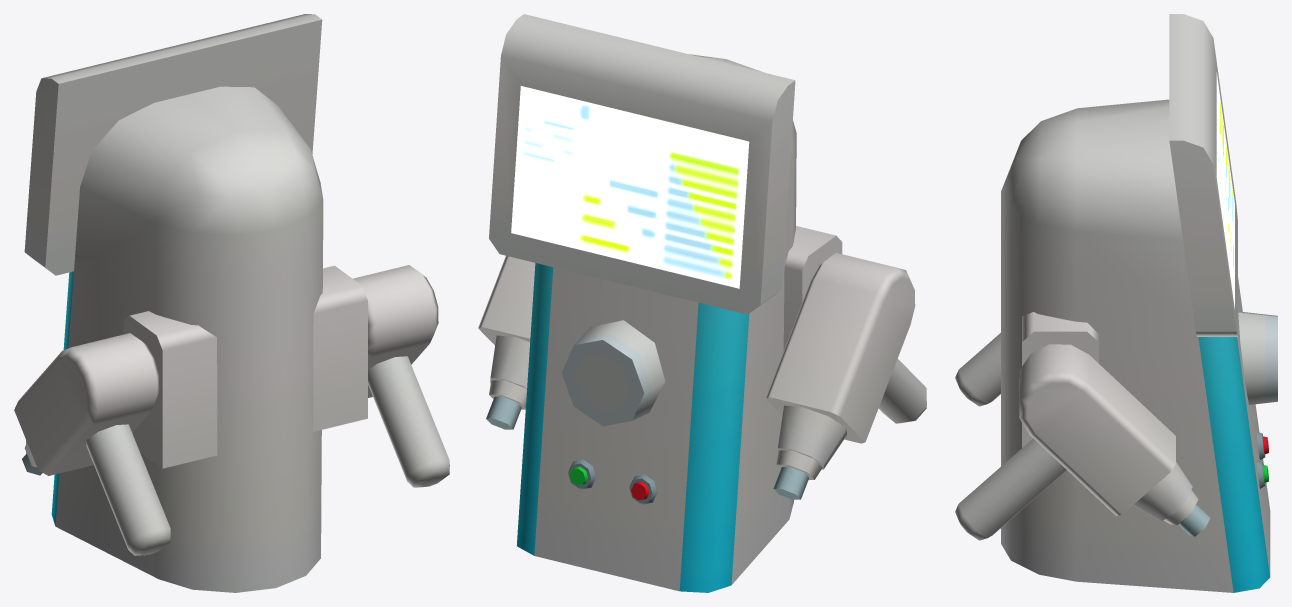
Rendered from Pfb_JLAB__osmetic_Device.fbx.
3 renders of one model, left to right at view 1: azimuth 30°, elevation 25°; view 2: azimuth 150°, elevation 25°; view 3: azimuth 270°, elevation 25°, orthographic. The views are drawn at different scales.
Parts seen in each view (by area): view 1: Color; view 2: Color, Monitors; view 3: Color, Monitors.
Boxes of the visible parts, x1,y1,x2,y2 form: Color: [14, 14, 449, 592]; Color: [478, 14, 926, 592]; Monitors: [511, 86, 749, 288]; Color: [955, 14, 1277, 592]; Monitors: [1216, 72, 1234, 308].
Bounding box in the file's own units: 0.3438 × 0.4423 × 0.2774.
2 materials, 2 textured.
